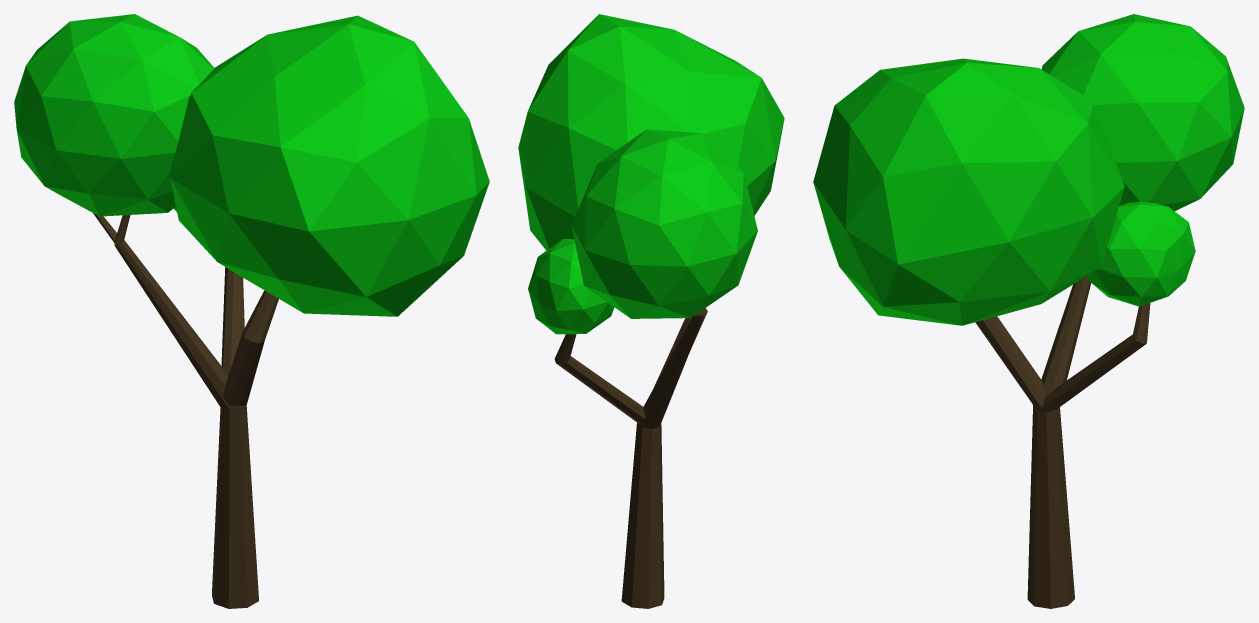
Rendered from ARVORE_A.fbx.
3 views of the same model, side by side, from view 1: azimuth 30°, elevation 25°; view 2: azimuth 150°, elevation 25°; view 3: azimuth 270°, elevation 25° (orthographic). The views are drawn at different scales.
Visible parts, largest first — view 1: Icosphere.002, Cube.007; view 2: Icosphere.002, Cube.007; view 3: Icosphere.002, Cube.007.
Boxes of the visible parts, x1=… form: Icosphere.002: x1=14, y1=14, x2=489, y2=316; Cube.007: x1=93, y1=213, x2=278, y2=608; Icosphere.002: x1=518, y1=14, x2=784, y2=334; Cube.007: x1=554, y1=308, x2=707, y2=608; Icosphere.002: x1=813, y1=14, x2=1244, y2=325; Cube.007: x1=975, y1=276, x2=1150, y2=608.
Bounding box in the file's own units: 215 × 247 × 360.
